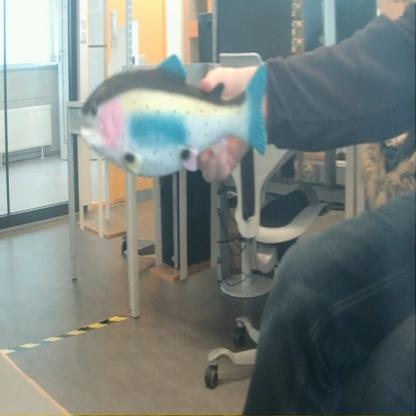rubberfish: (78, 51, 277, 184)
